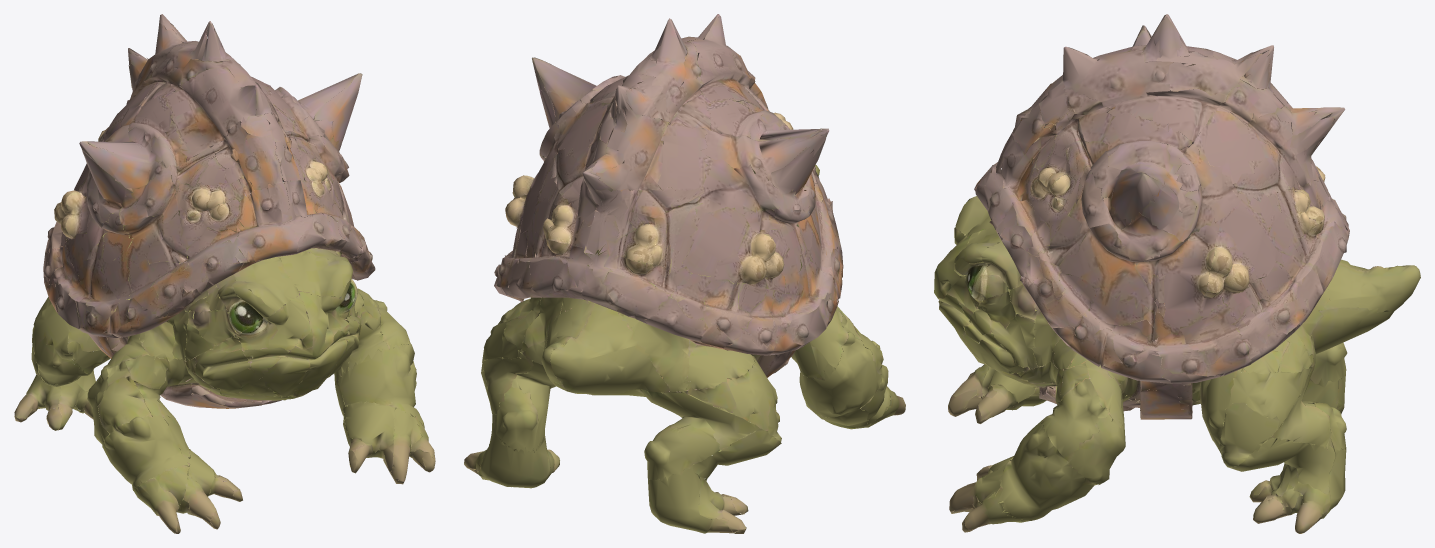
The picture shows the model from 3 angles, left to right: view 1: azimuth 30°, elevation 25°; view 2: azimuth 150°, elevation 25°; view 3: azimuth 270°, elevation 25°; orthographic projection. The views are drawn at different scales.
Parts seen in each view (by area): view 1: Mesh_0; view 2: Mesh_0; view 3: Mesh_0.
Boxes of the visible parts, bbox=[...] form: Mesh_0: bbox=[14, 14, 435, 533]; Mesh_0: bbox=[464, 14, 905, 533]; Mesh_0: bbox=[934, 14, 1420, 533].
Size of the model in its own units: 1.49 by 1.91 by 1.86.
Materials: 1 (1 with a texture image).
